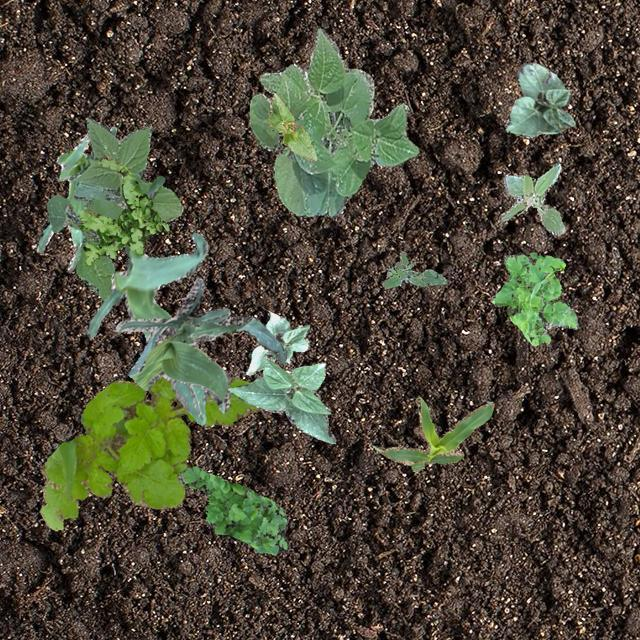crop: (248, 28, 418, 216), (86, 174, 208, 424), (114, 276, 286, 412), (36, 126, 116, 270), (226, 352, 334, 442), (372, 396, 494, 470), (504, 62, 574, 136), (244, 310, 308, 374), (268, 92, 314, 160)
weed: (38, 376, 262, 530), (46, 118, 182, 300), (76, 154, 168, 266), (176, 464, 288, 554), (490, 252, 578, 344), (501, 162, 564, 234), (382, 250, 446, 288)
